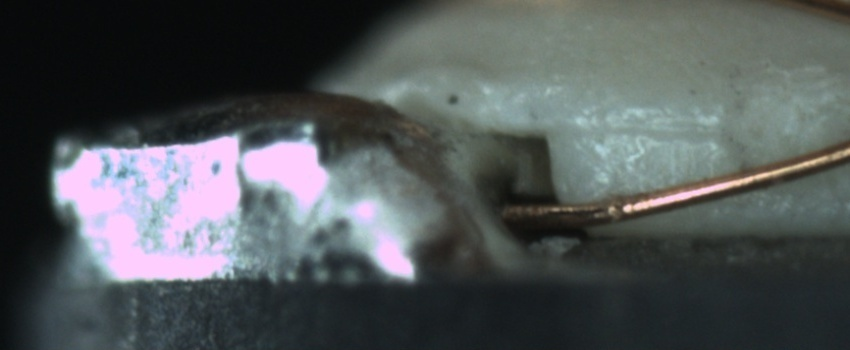DL: (566, 95, 728, 162)
